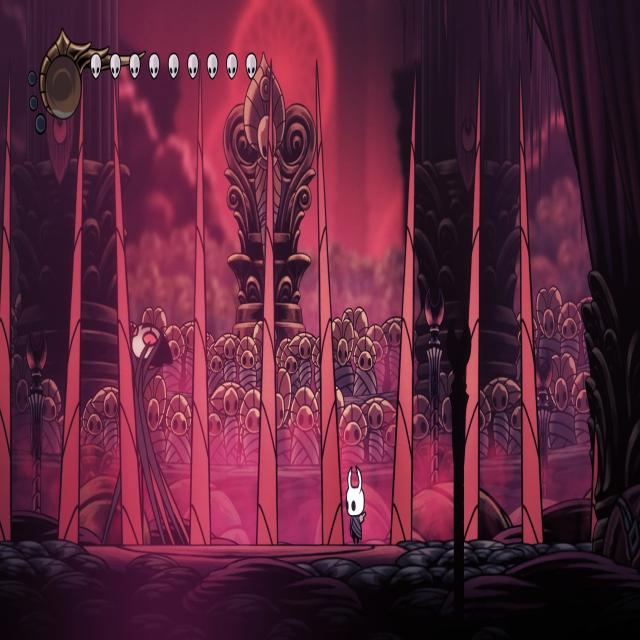Grimm: (100, 314, 189, 544)
Player: (344, 461, 369, 547)
Spikes: (318, 122, 344, 548), (116, 138, 142, 547), (59, 123, 84, 543), (255, 106, 278, 545), (520, 123, 544, 542), (392, 106, 414, 544), (190, 94, 211, 545), (462, 123, 478, 540), (0, 61, 11, 546)
